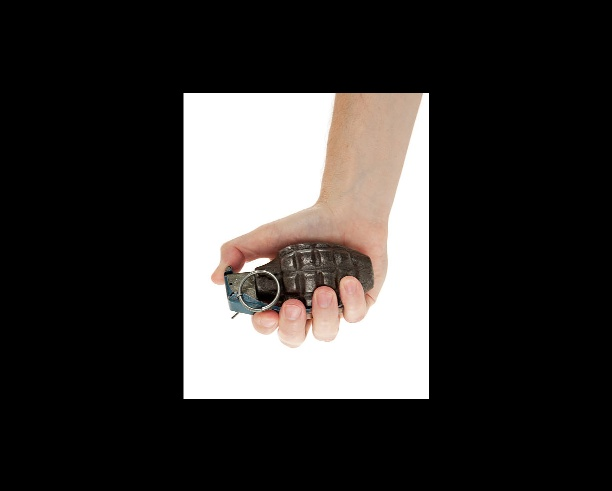e1: (217, 239, 378, 322)
